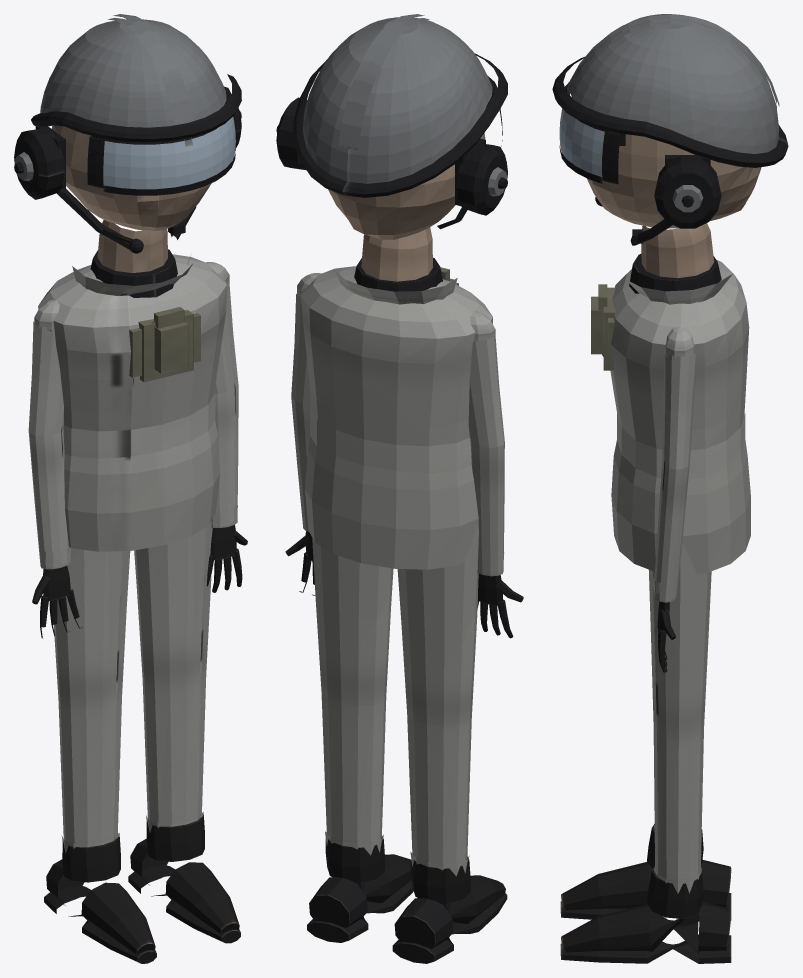
File: fig_6.glb
The picture shows the model from 3 angles, left to right: view 1: azimuth 30°, elevation 25°; view 2: azimuth 150°, elevation 25°; view 3: azimuth 270°, elevation 25°; orthographic projection. The views are drawn at different scales.
Parts seen in each view (by area): view 1: figure; view 2: figure; view 3: figure.
Boxes of the visible parts, x1,y1,x2,y2 form: figure: (14, 14, 247, 963); figure: (276, 14, 523, 963); figure: (552, 14, 788, 963).
Size of the model in its own units: 0.5876 by 2.23 by 0.5189.
Materials: 3 (3 with a texture image).
